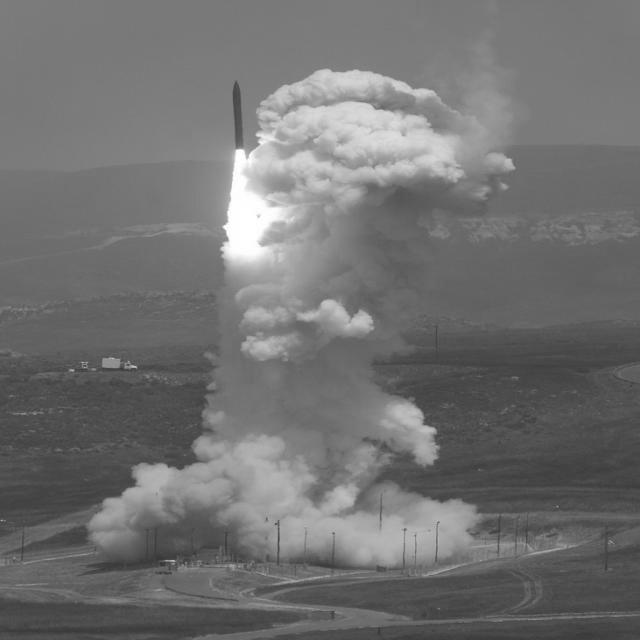missile: (230, 79, 246, 159)
